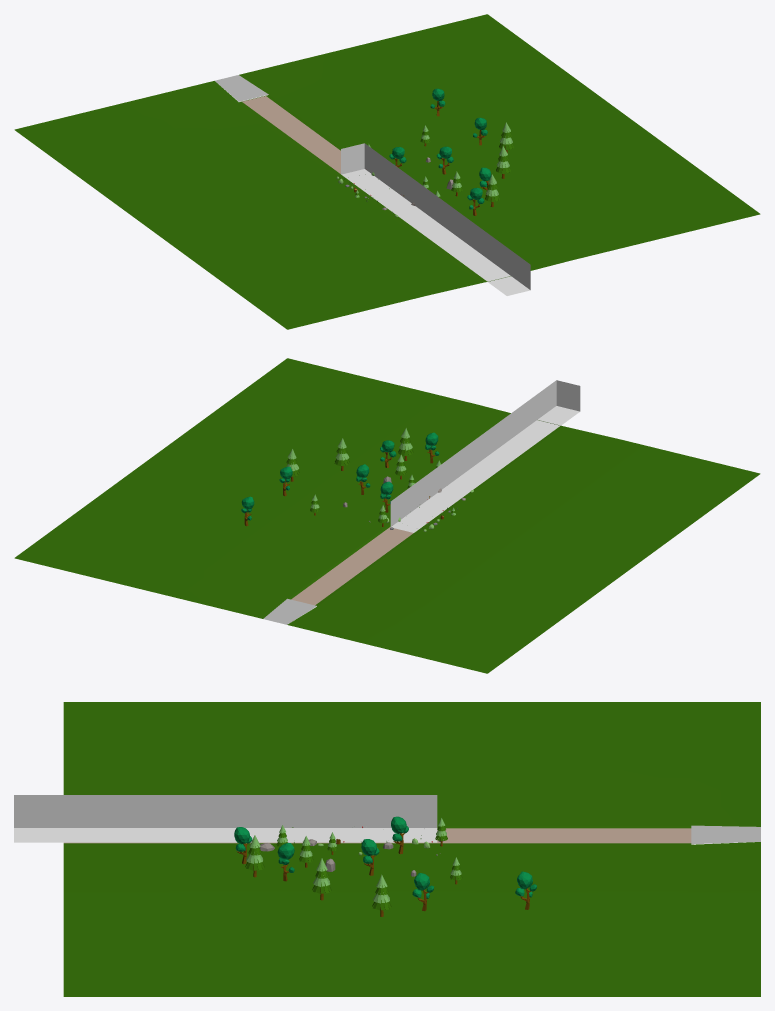
File: levelgobz.glb
3 renders of one model, top to bottom at view 1: azimuth 30°, elevation 25°; view 2: azimuth 150°, elevation 25°; view 3: azimuth 270°, elevation 25°, orthographic. The views are drawn at different scales.
Parts seen in each view (by area): view 1: polySurface14, invisible, polySurface15, polySurface16; view 2: polySurface14, invisible, polySurface15, polySurface16; view 3: polySurface14, invisible, polySurface15, polySurface16.
Boxes of the visible parts, x1,y1,x2,y2 form: polySurface14: [14, 14, 760, 329]; invisible: [341, 143, 530, 295]; polySurface15: [242, 96, 340, 173]; polySurface16: [215, 75, 268, 101]; polySurface14: [14, 358, 760, 673]; invisible: [390, 380, 580, 532]; polySurface15: [291, 527, 413, 605]; polySurface16: [263, 598, 316, 624]; polySurface14: [63, 702, 760, 996]; invisible: [14, 795, 437, 842]; polySurface15: [64, 828, 691, 843]; polySurface16: [691, 825, 760, 844].
Size of the model in its own units: 58.83 by 4.52 by 63.01.
